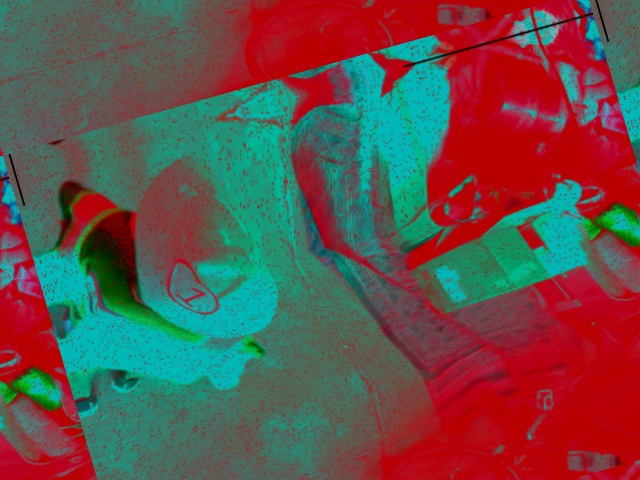one: (161, 258, 226, 318)
